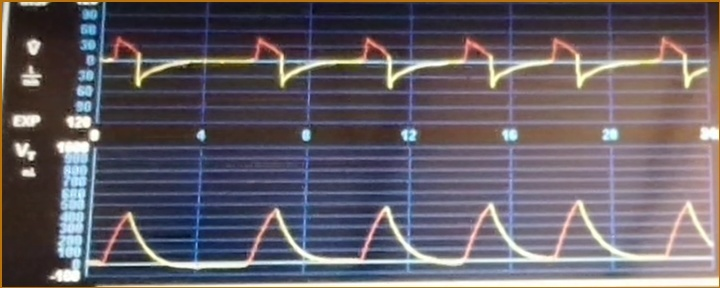Normal Flow: (105, 16, 708, 110)
Normal Volume: (94, 179, 711, 271)
